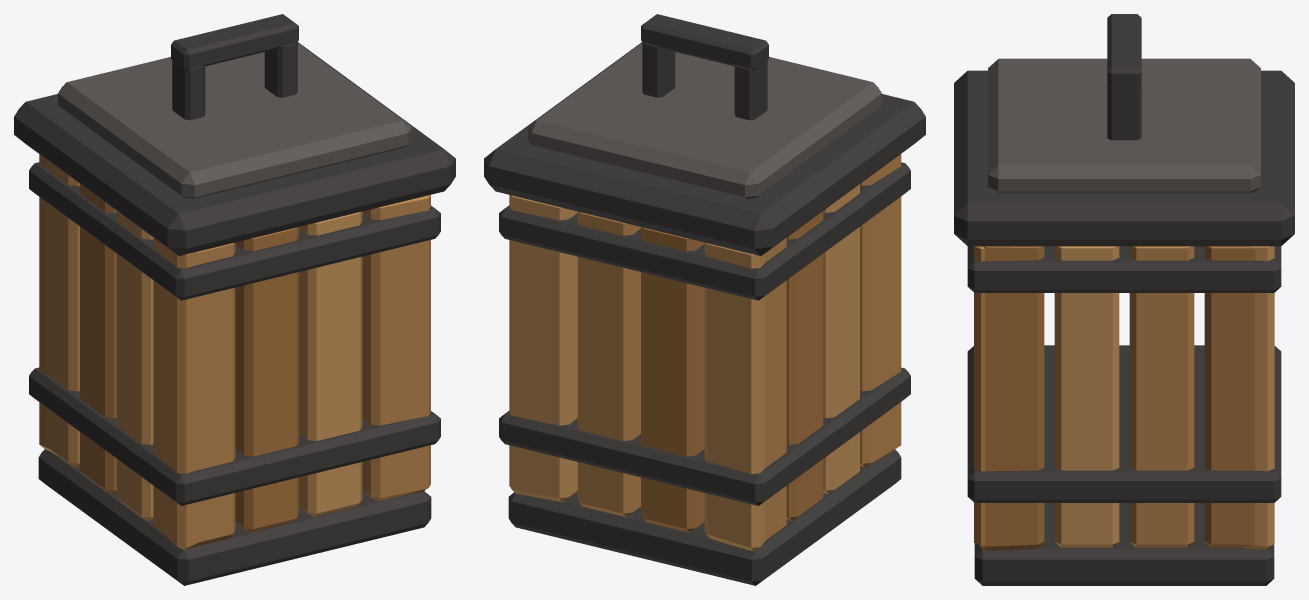
The model's file is street_bin.glb.
3 views of the same model, side by side, from view 1: azimuth 30°, elevation 25°; view 2: azimuth 150°, elevation 25°; view 3: azimuth 270°, elevation 25° (orthographic). The views are drawn at different scales.
Parts seen in each view (by area): view 1: street_bin; view 2: street_bin; view 3: street_bin.
Part boxes in pixels (left/top/right/bottom): street_bin: left=14, top=14, right=455, bottom=585; street_bin: left=484, top=14, right=925, bottom=585; street_bin: left=954, top=14, right=1294, bottom=585.
Bounding box in the file's own units: 0.5 × 0.785 × 0.5.
